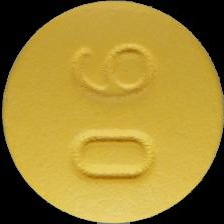53808-0500: (0, 0, 224, 224)
